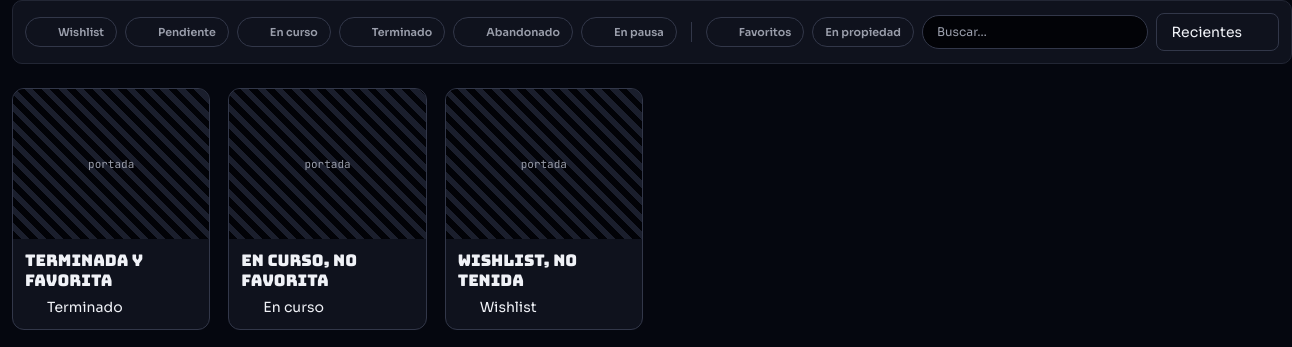
CategoryWorksBrowser › shows a filter-specific empty state, keeping the active filter and offering to clear it
This screenshot has width=1292, height=347.
Step 1. Click the button "Abandonado" → (513, 32), box [453,17,573,47]
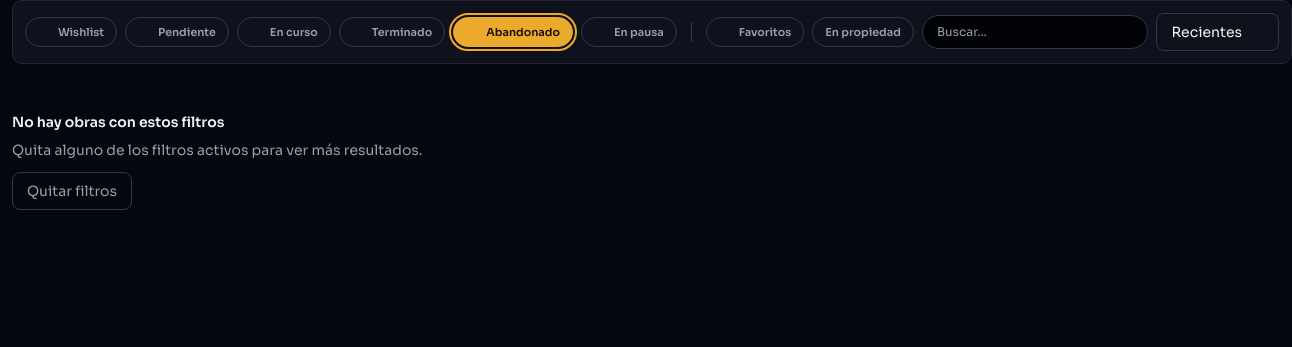
Now the heading "No hay obras con estos filtros" is shown, box [12,113,224,131]
Step 2. Click the button "Quitar filtros" → (72, 191), box [12,172,132,210]
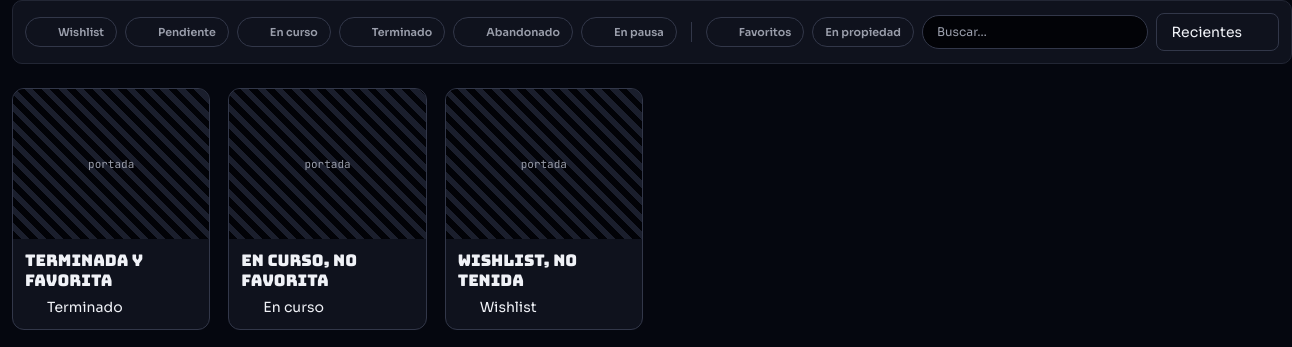
Now the text "Terminada y favorita" is shown, box [25,250,143,291]
Now the text "En curso, no favorita" is shown, box [241,250,357,291]
Now the text "Wishlist, no tenida" is shown, box [458,250,577,291]
